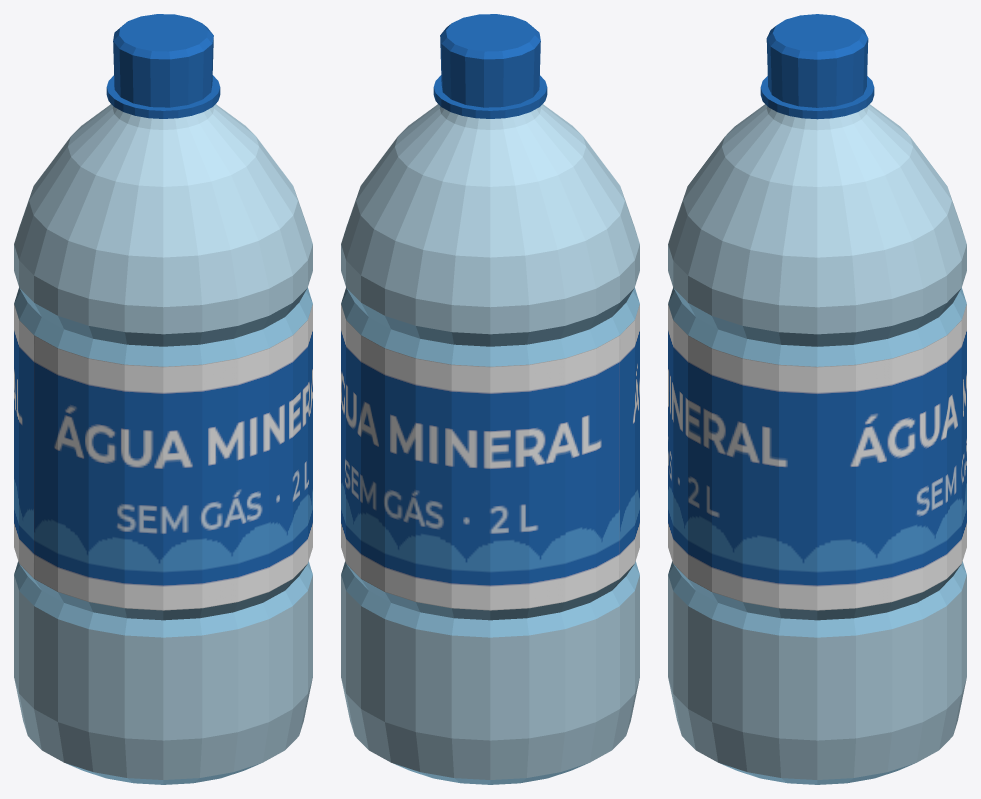
Rendered from Item_Agua.fbx.
3 views of the same model, side by side, from view 1: azimuth 30°, elevation 25°; view 2: azimuth 150°, elevation 25°; view 3: azimuth 270°, elevation 25° (orthographic).
Parts seen in each view (by area): view 1: Item_Agua; view 2: Item_Agua; view 3: Item_Agua.
Boxes of the visible parts, x1,y1,x2,y2 form: Item_Agua: (14, 14, 312, 784); Item_Agua: (341, 14, 639, 784); Item_Agua: (668, 14, 966, 784).
Size of the model in its own units: 0.1 by 0.26 by 0.1.
1 material, 1 textured.
